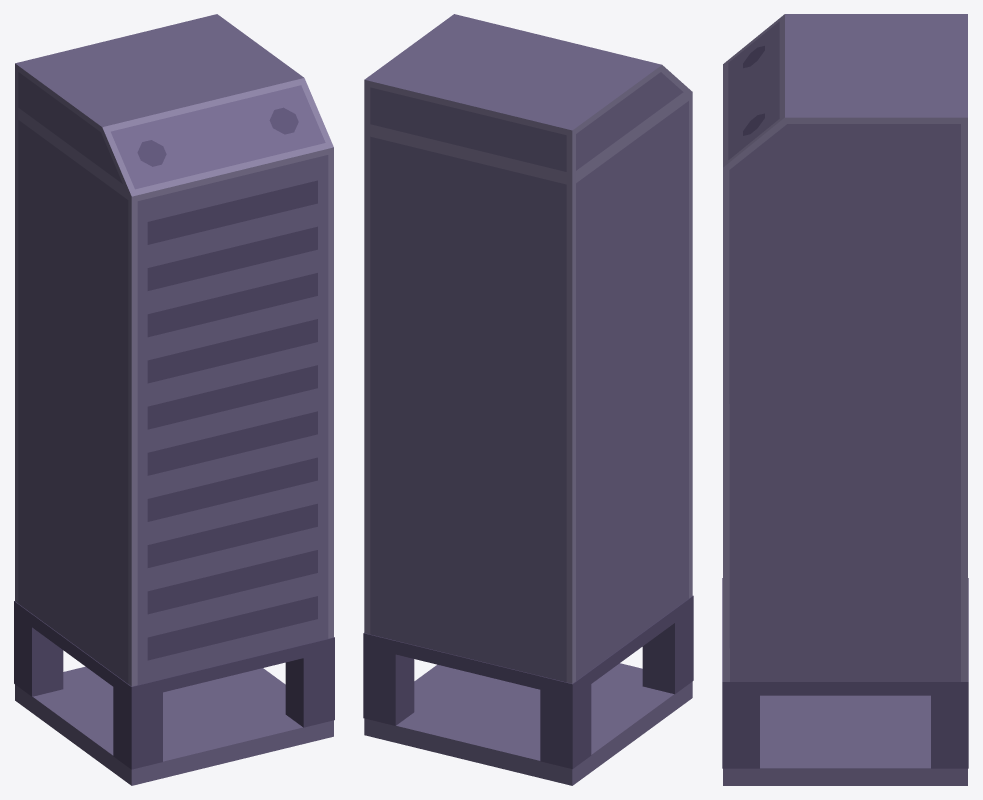
The model's file is Apartment(deneme31).fbx.
3 renders of one model, left to right at view 1: azimuth 30°, elevation 25°; view 2: azimuth 150°, elevation 25°; view 3: azimuth 270°, elevation 25°, orthographic. The views are drawn at different scales.
Visible parts, largest first — view 1: Apartment5(Elevated); view 2: Apartment5(Elevated); view 3: Apartment5(Elevated).
Part boxes in pixels (left/top/right/bottom): Apartment5(Elevated): left=14, top=14, right=334, bottom=785; Apartment5(Elevated): left=363, top=14, right=693, bottom=785; Apartment5(Elevated): left=722, top=14, right=968, bottom=785.
Bounding box in the file's own units: 40.04 × 120 × 40.07.
